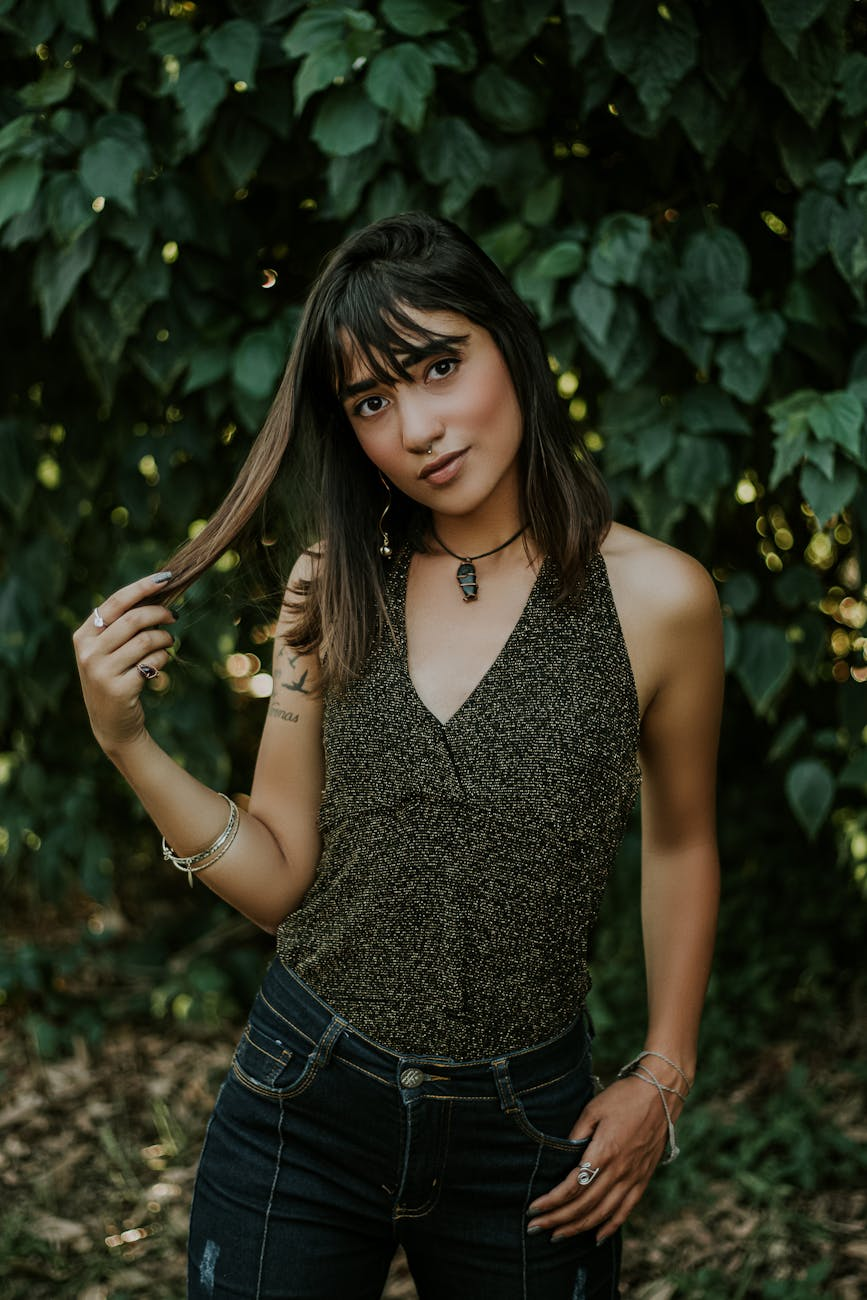sleeveless_top: (280, 518, 644, 1042)
